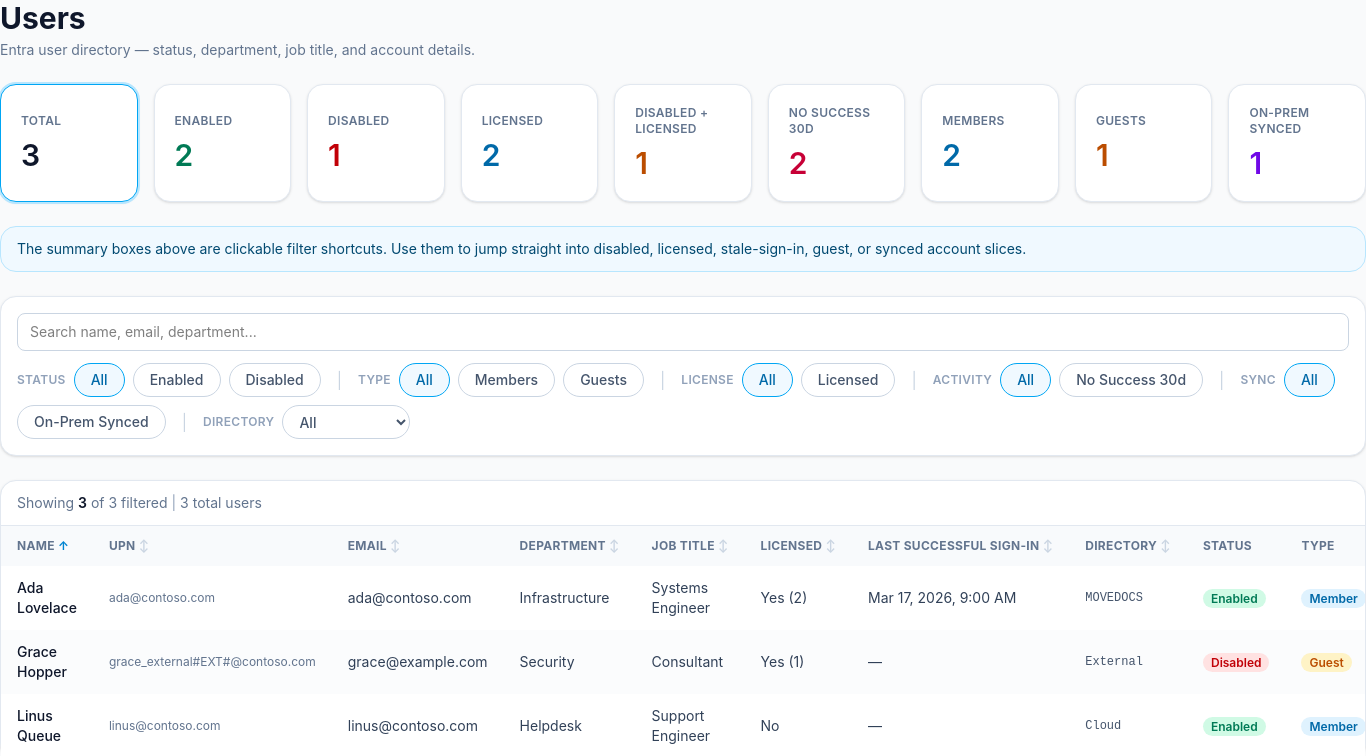
Users directory pages › renders the shared Azure directory view without the primary admin workspace
expect the cell "Ada Lovelace" is shown: met, box [1, 566, 93, 630]
Click the button "Guests": (604, 380) [563, 363, 644, 397]
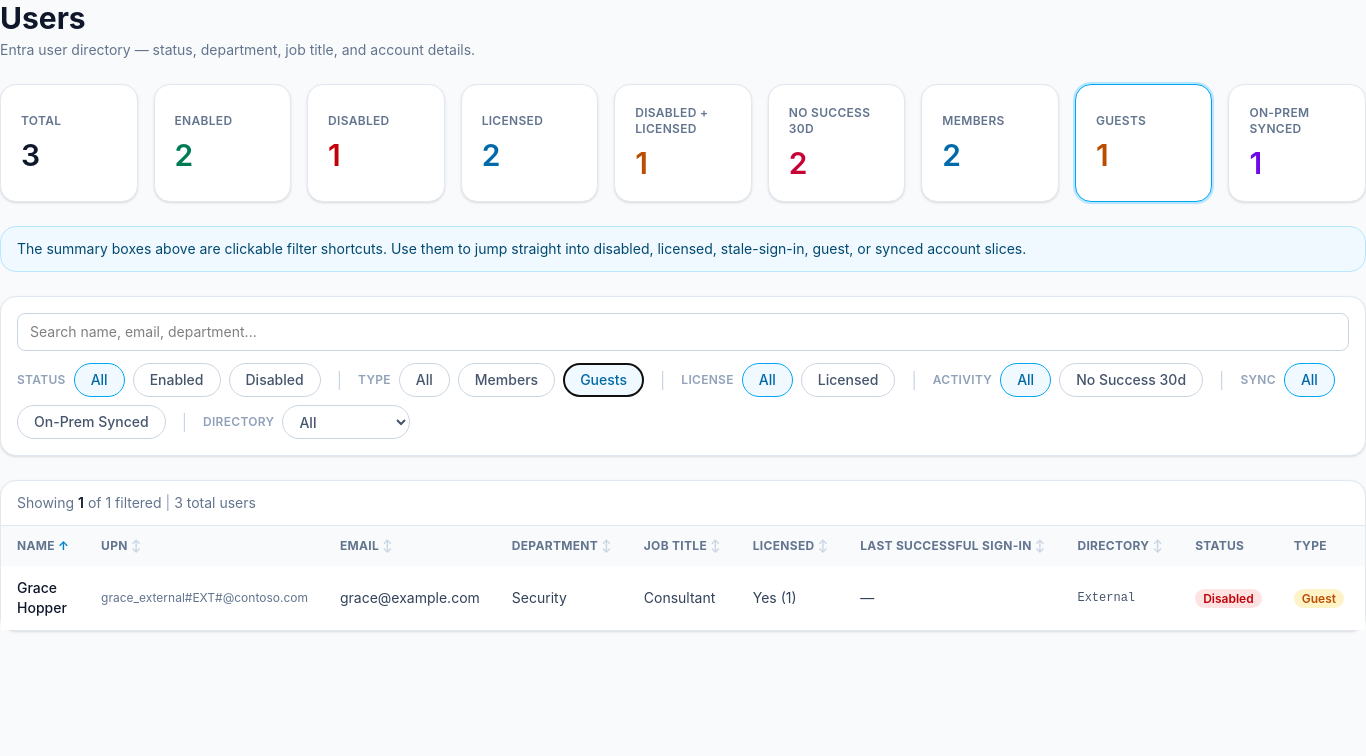
expect the text "Ada Lovelace" is gone: met
Click the cell "Grace Hopper": (43, 598) [1, 566, 85, 630]
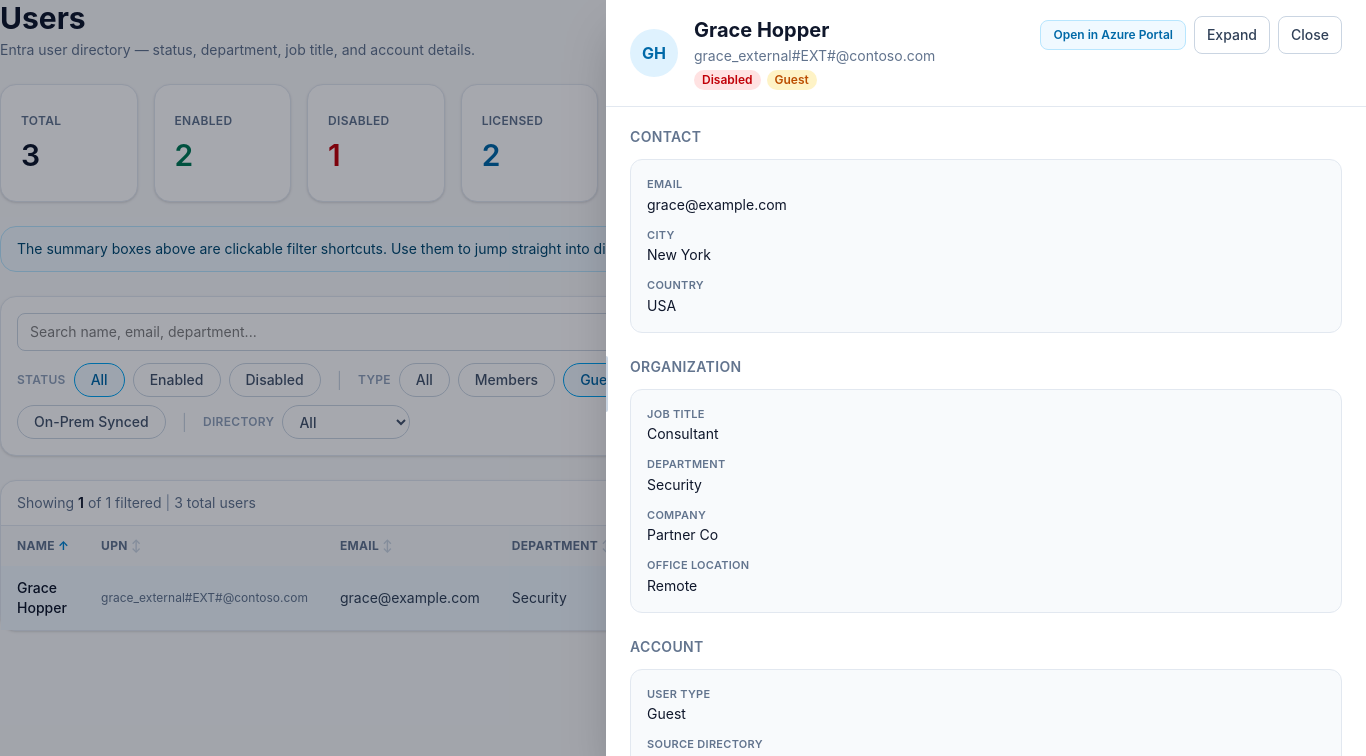
expect the heading "Grace Hopper" is shown: met, box [694, 18, 829, 42]
